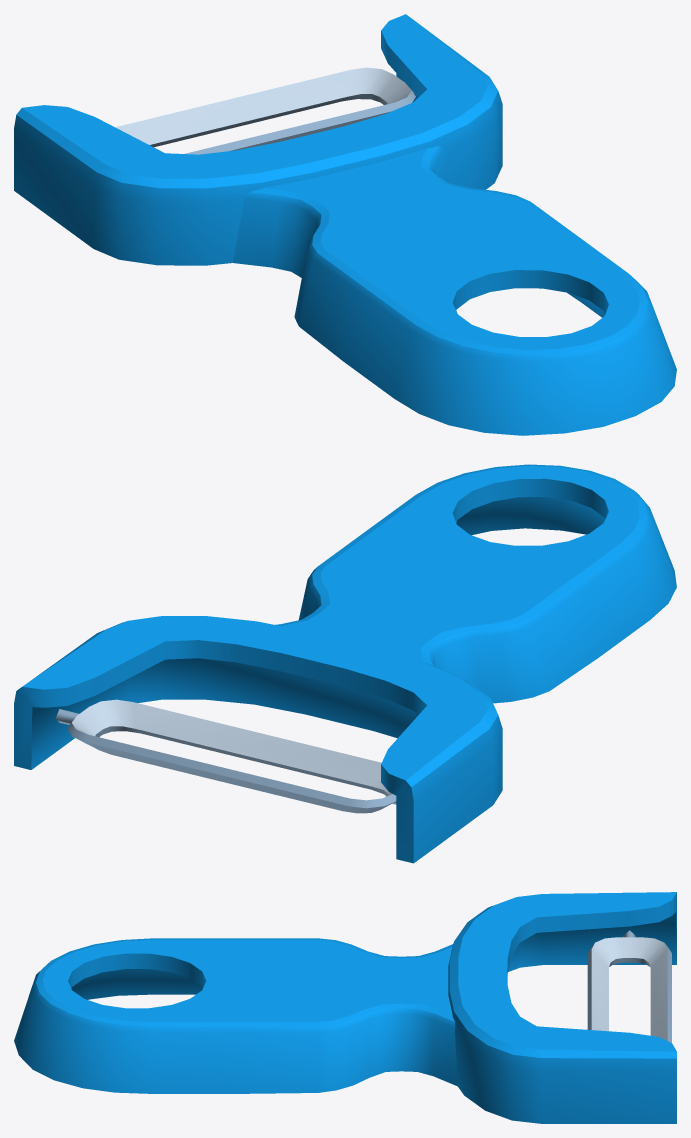
Rendered from Peeler.fbx.
The picture shows the model from 3 angles, top to bottom: view 1: azimuth 30°, elevation 25°; view 2: azimuth 150°, elevation 25°; view 3: azimuth 270°, elevation 25°; orthographic projection. The views are drawn at different scales.
Visible parts, largest first — view 1: Peeler, PeelerBlade; view 2: Peeler, PeelerBlade; view 3: Peeler, PeelerBlade.
Part boxes in pixels (x1,y1,x2,y2): Peeler: (14,14,676,435); PeelerBlade: (115,67,415,154); Peeler: (14,464,676,863); PeelerBlade: (67,699,396,813); Peeler: (14,892,676,1123); PeelerBlade: (587,937,671,1042).
Size of the model in its own units: 1.15 by 0.2227 by 1.94.
